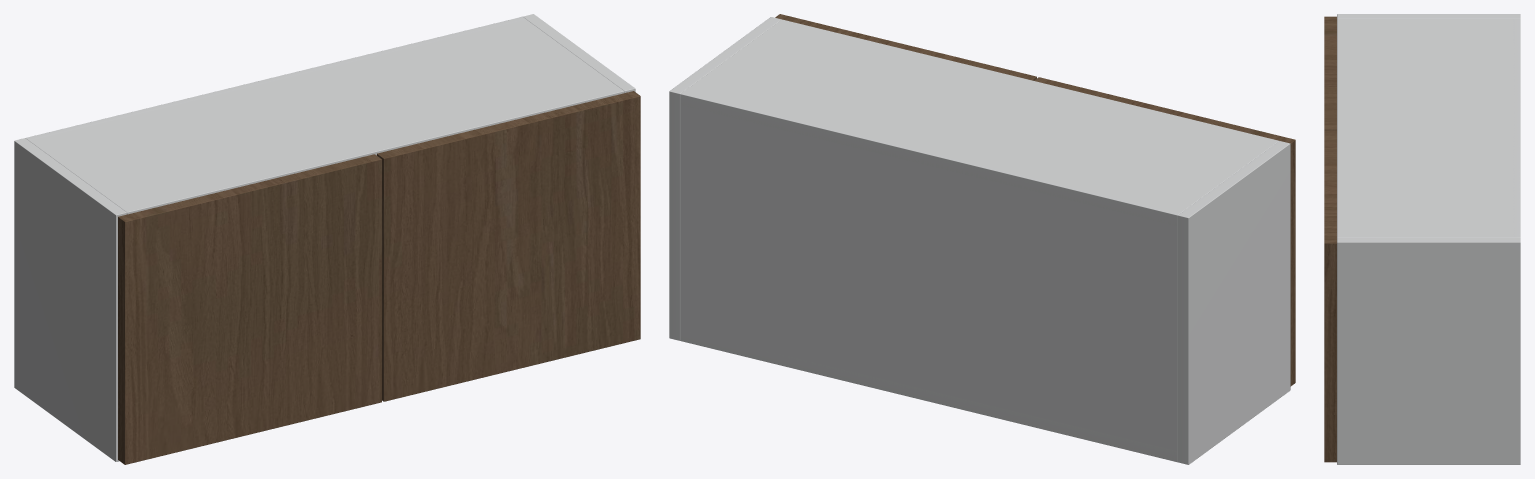
File: oppein-ply-mso-w3315.glb
3 views of the same model, side by side, from view 1: azimuth 30°, elevation 25°; view 2: azimuth 150°, elevation 25°; view 3: azimuth 270°, elevation 25° (orthographic). The views are drawn at different scales.
Visible parts, largest first — view 1: Door, Door.001, Cabinet top, Cabinet side, Cabinet back, Cabinet side.001; view 2: Cabinet back, Cabinet top, Cabinet side, Cabinet bottom, Cabinet side.001, Door, Door.001; view 3: Cabinet side.001, Cabinet top, Door.001, Cabinet back, Door, Cabinet side.
Part boxes in pixels (<box>): Door: <box>118,154,381,464</box>; Door.001: <box>377,91,640,401</box>; Cabinet top: <box>25,17,624,214</box>; Cabinet side: <box>14,138,126,461</box>; Cabinet back: <box>26,16,525,140</box>; Cabinet side.001: <box>523,14,635,92</box>; Cabinet back: <box>680,94,1181,461</box>; Cabinet top: <box>680,19,1278,225</box>; Cabinet side: <box>1177,141,1290,464</box>; Cabinet bottom: <box>680,332,1177,461</box>; Cabinet side.001: <box>669,17,781,340</box>; Door: <box>1034,77,1295,386</box>; Door.001: <box>775,14,1036,80</box>; Cabinet side.001: <box>1337,237,1520,464</box>; Cabinet top: <box>1337,19,1520,237</box>; Door.001: <box>1324,130,1336,462</box>; Cabinet back: <box>1513,19,1520,237</box>; Door: <box>1324,16,1336,130</box>; Cabinet side: <box>1337,14,1520,18</box>.
Bounding box in the file's own units: 0.8382 × 0.381 × 0.3048.
2 materials, 1 textured.
